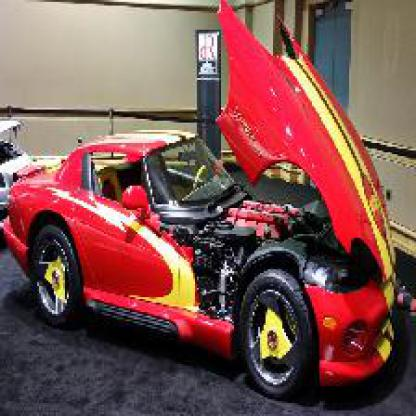not_emergency: (13, 115, 397, 405)
